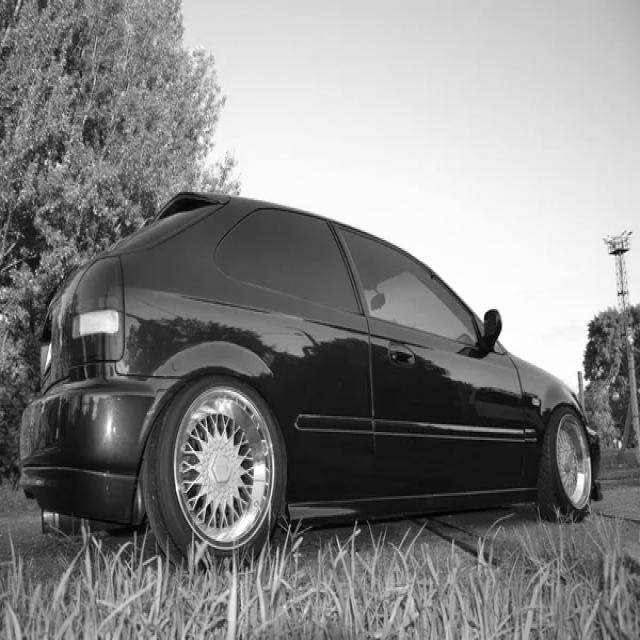Car: (19, 192, 601, 562)
